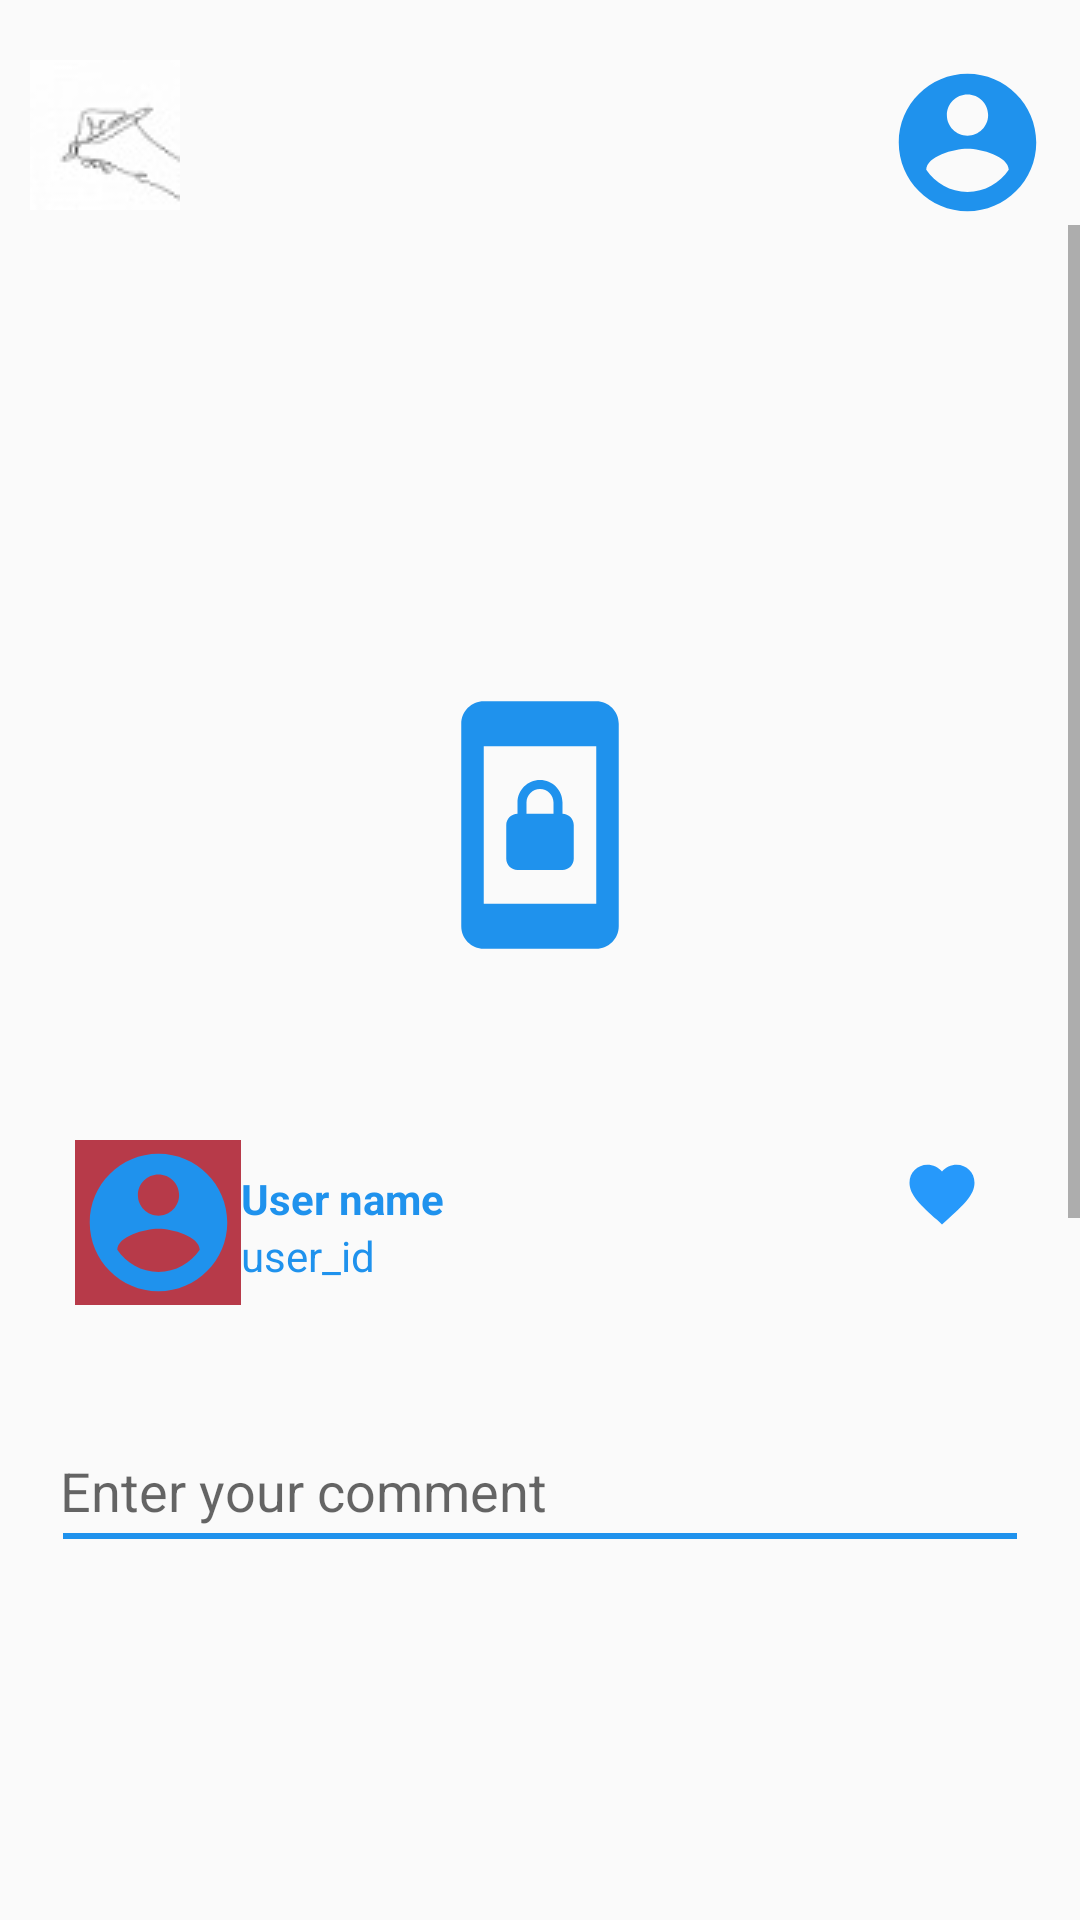

Icon bounding boxes for this 1080 × 1920 phone screenshot, format [x1, y1, x2, y2]:
account circle: [898, 73, 1037, 212], [75, 1140, 241, 1305]
screen lock portrait: [461, 701, 619, 949]
